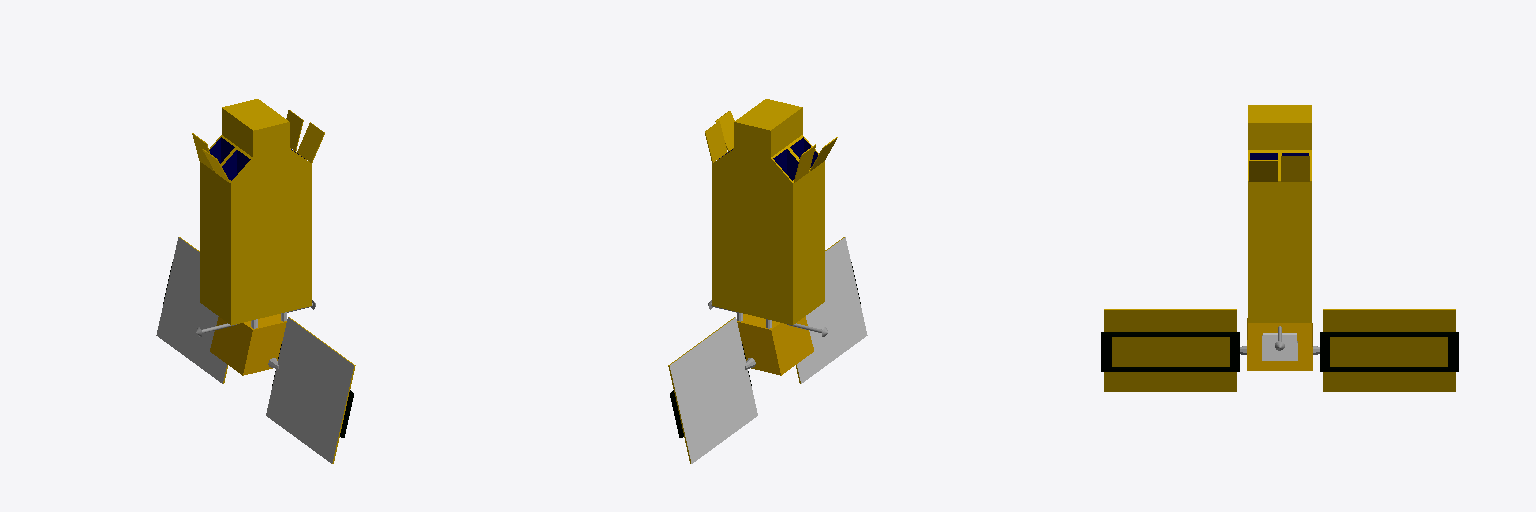
Rendered from fuse.obj.
The picture shows the model from 3 angles: view 1: azimuth 30°, elevation 25°; view 2: azimuth 150°, elevation 25°; view 3: azimuth 270°, elevation 25°; orthographic projection.
Parts seen in each view (by area): view 1: Cylinder.002_~tmp-mesh; view 2: Cylinder.002_~tmp-mesh; view 3: Cylinder.002_~tmp-mesh.
Boxes of the visible parts, x1=… form: Cylinder.002_~tmp-mesh: x1=156, y1=99, x2=355, y2=463; Cylinder.002_~tmp-mesh: x1=668, y1=99, x2=867, y2=463; Cylinder.002_~tmp-mesh: x1=1101, y1=105, x2=1458, y2=391.
Size of the model in its own units: 2.63 by 5.88 by 6.73.